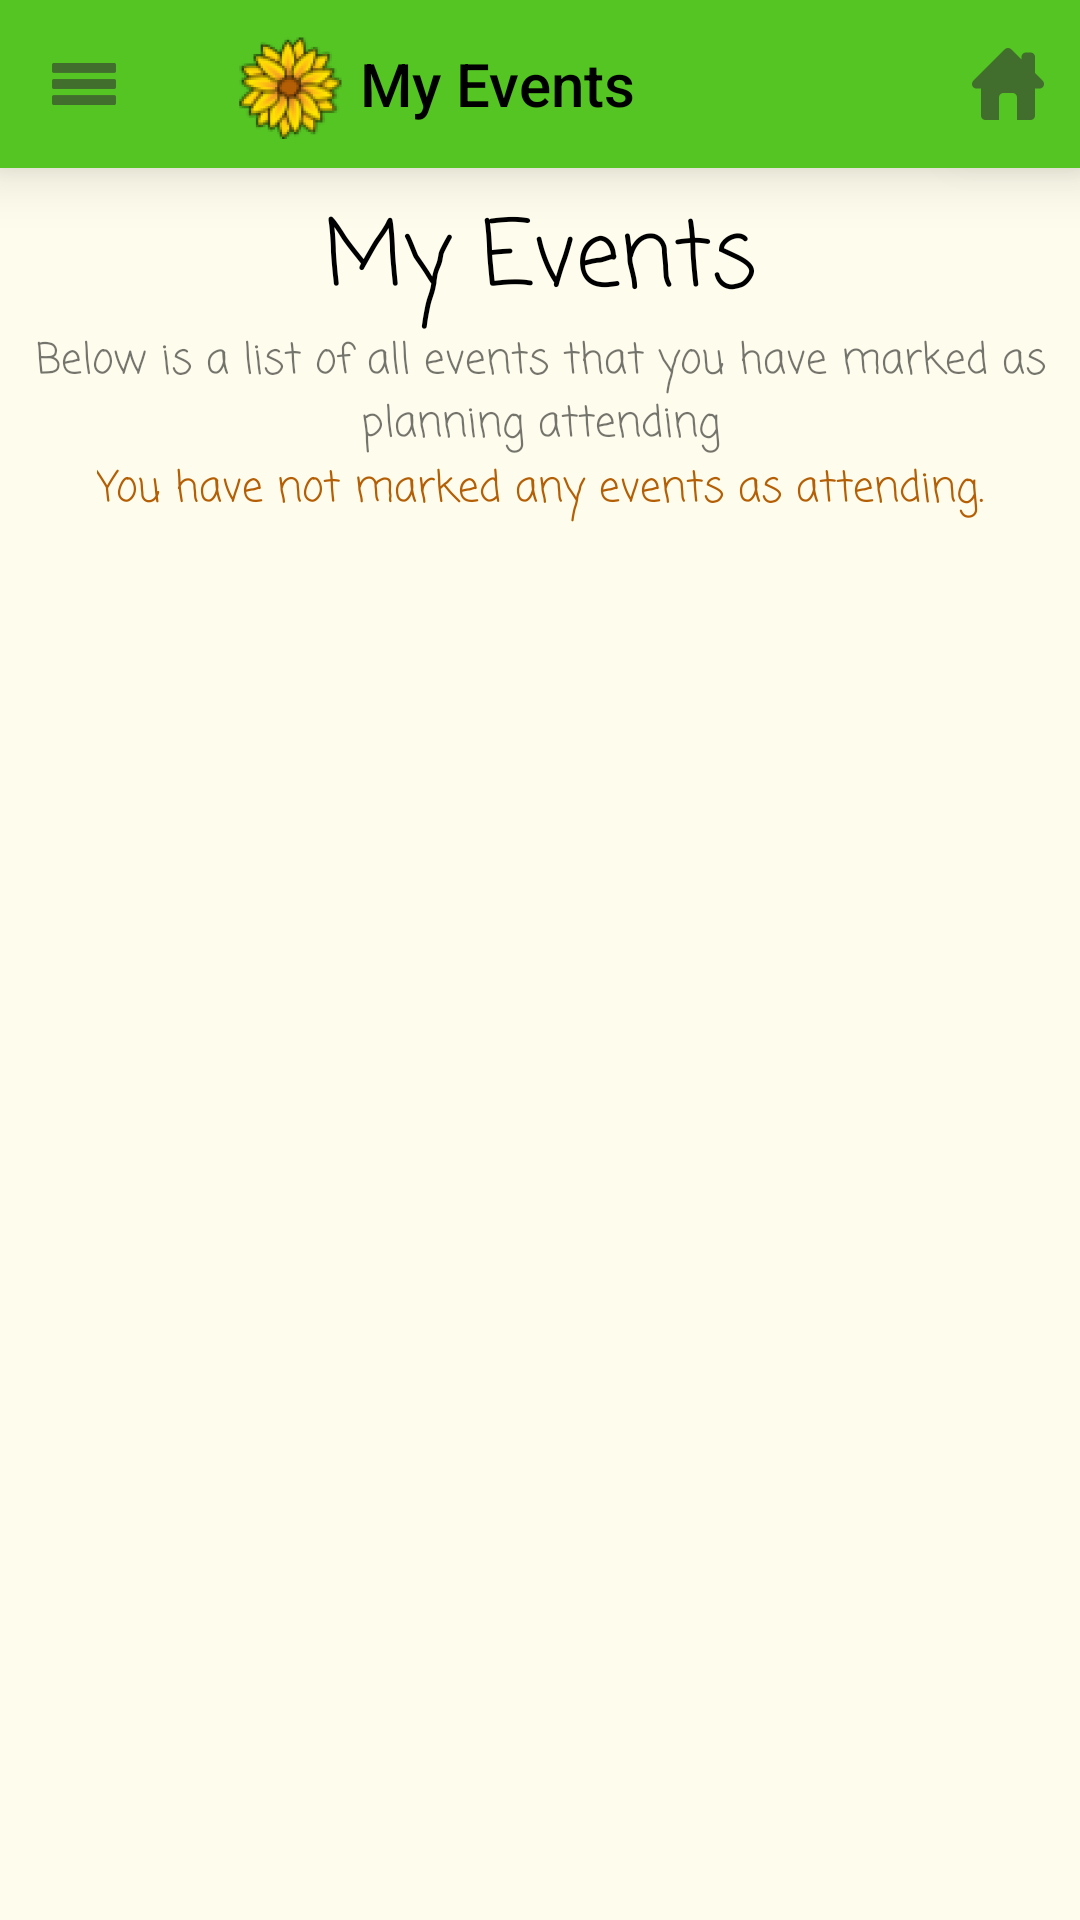

Icons on this 1080px×1920px Android screen, each with the point to tap as point (x, y):
home: point (1008, 84)
